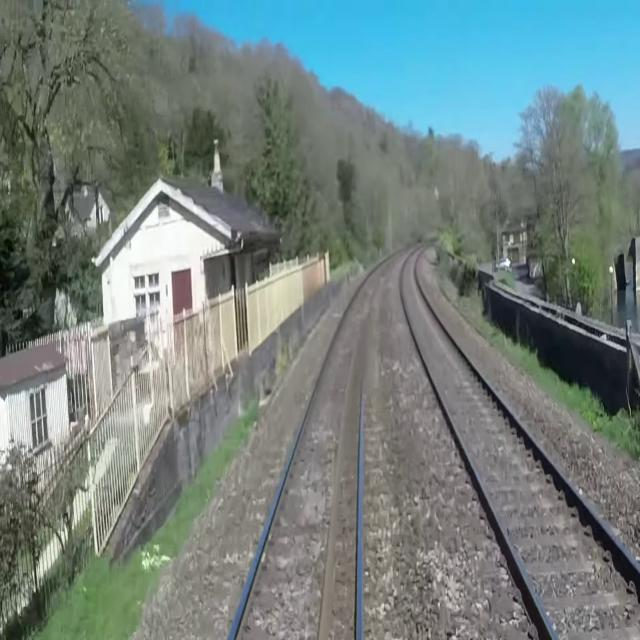rail-track: (401, 244, 640, 639), (233, 249, 400, 639), (364, 263, 396, 373)
